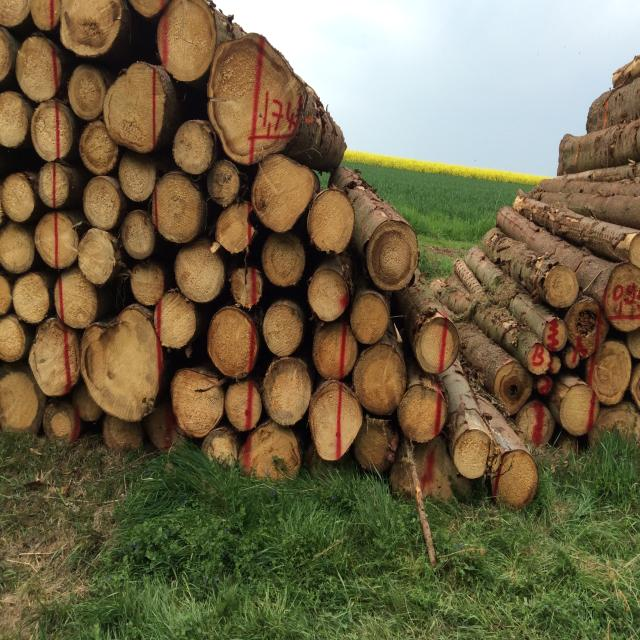wood-log: (206, 38, 298, 168), (84, 302, 168, 419), (105, 63, 166, 155), (254, 158, 319, 235), (155, 0, 215, 80), (312, 384, 367, 463), (26, 318, 79, 396), (351, 344, 406, 416), (154, 172, 208, 245), (206, 308, 258, 382), (58, 0, 124, 57), (174, 370, 228, 439), (242, 426, 302, 484), (262, 356, 312, 423), (17, 37, 66, 105), (177, 240, 229, 304), (372, 227, 418, 294), (310, 188, 357, 252), (584, 341, 630, 405), (597, 403, 640, 471), (398, 386, 446, 444), (315, 322, 362, 381), (0, 369, 42, 435), (56, 266, 100, 328), (494, 452, 540, 510), (413, 319, 459, 375), (564, 304, 607, 363), (154, 291, 197, 349), (36, 210, 78, 269), (306, 266, 350, 322), (262, 302, 305, 359), (40, 99, 78, 163), (174, 120, 219, 174), (216, 200, 261, 253), (606, 260, 640, 330), (354, 420, 398, 474), (263, 233, 306, 288), (80, 120, 121, 176), (82, 176, 124, 230), (79, 228, 119, 284), (557, 382, 597, 436), (348, 292, 389, 344), (144, 400, 185, 452), (68, 66, 106, 122), (10, 272, 50, 323), (224, 380, 262, 433), (119, 210, 158, 261), (118, 154, 158, 202), (518, 401, 556, 449), (0, 223, 35, 274), (453, 431, 490, 479), (30, 100, 58, 162), (2, 172, 37, 221), (0, 90, 29, 147), (206, 159, 241, 206), (130, 260, 166, 305), (203, 428, 239, 469), (545, 266, 580, 308), (231, 267, 265, 310), (102, 416, 141, 452), (56, 212, 80, 270), (48, 402, 80, 445), (0, 316, 28, 362), (34, 212, 56, 268), (73, 382, 103, 422), (57, 100, 76, 160), (54, 162, 74, 208), (31, 0, 59, 31), (0, 26, 15, 83), (626, 348, 640, 405), (0, 0, 30, 26), (38, 162, 54, 208), (128, 0, 170, 17), (528, 344, 549, 374), (0, 276, 12, 318), (534, 374, 554, 398), (626, 329, 640, 360), (631, 364, 640, 406), (630, 235, 640, 266), (0, 201, 6, 225)
